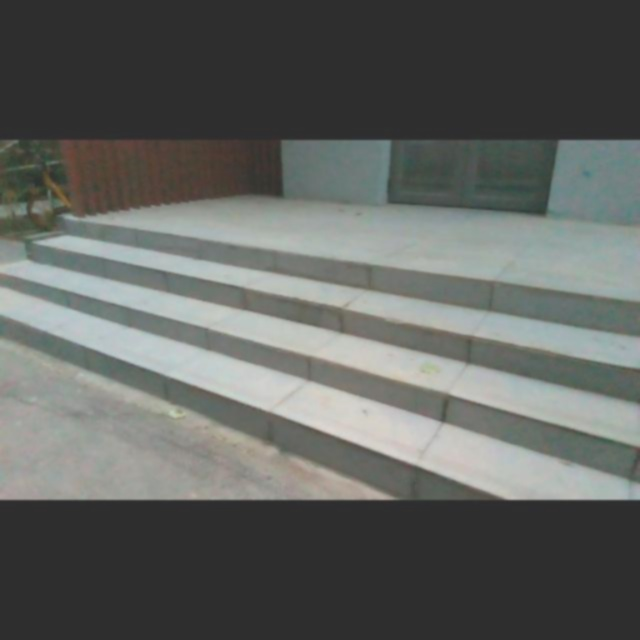stair: (10, 215, 640, 493)
